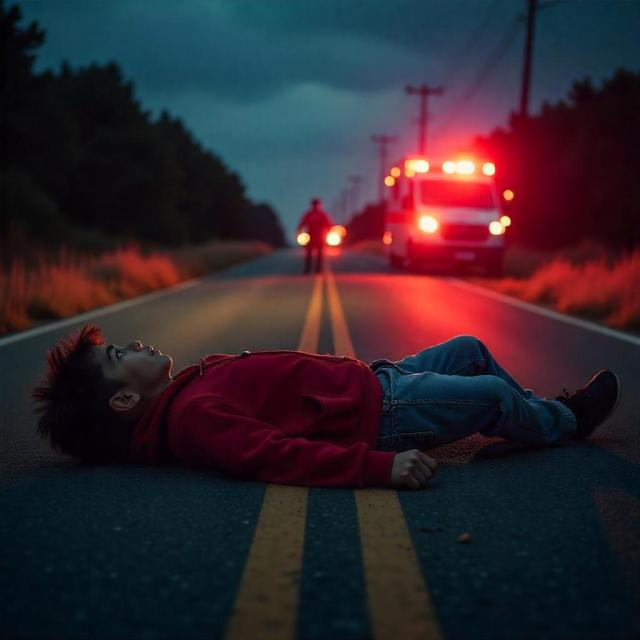injury: (40, 326, 172, 459)
no injury: (33, 326, 619, 489)
